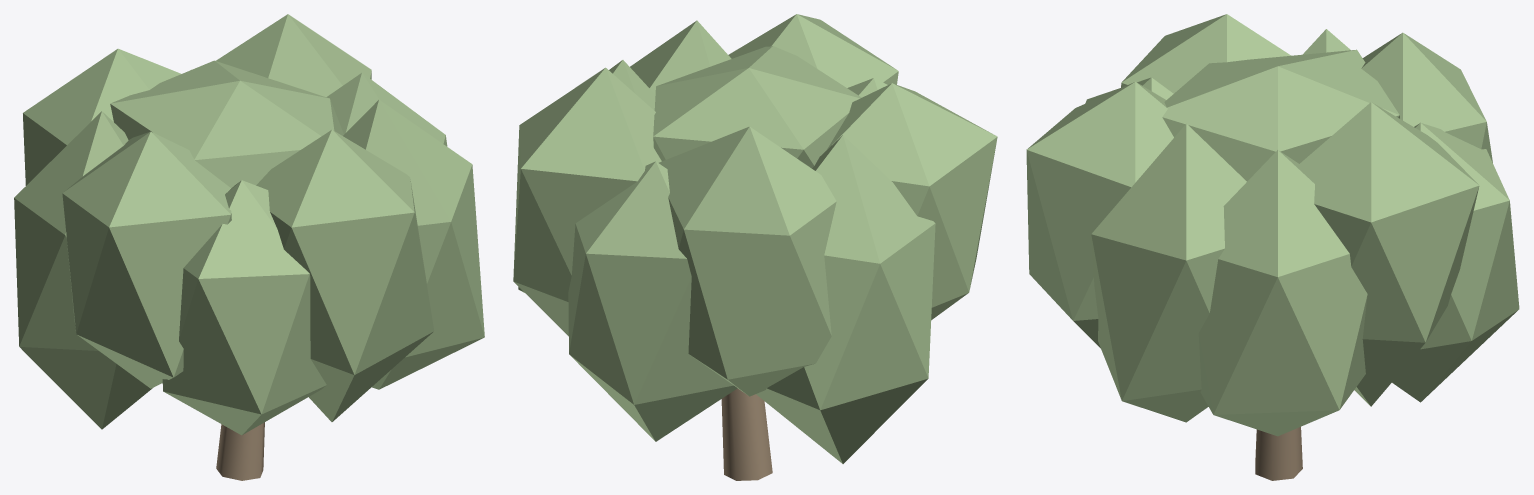
File: willow.glb
3 renders of one model, left to right at view 1: azimuth 30°, elevation 25°; view 2: azimuth 150°, elevation 25°; view 3: azimuth 270°, elevation 25°, orthographic. The views are drawn at different scales.
Parts seen in each view (by area): view 1: willow; view 2: willow; view 3: willow.
Part boxes in pixels (x1,y1,x2,y2): willow: [14, 14, 484, 480]; willow: [513, 14, 997, 480]; willow: [1026, 14, 1519, 480].
Size of the model in its own units: 8.61 by 8.23 by 8.85.
